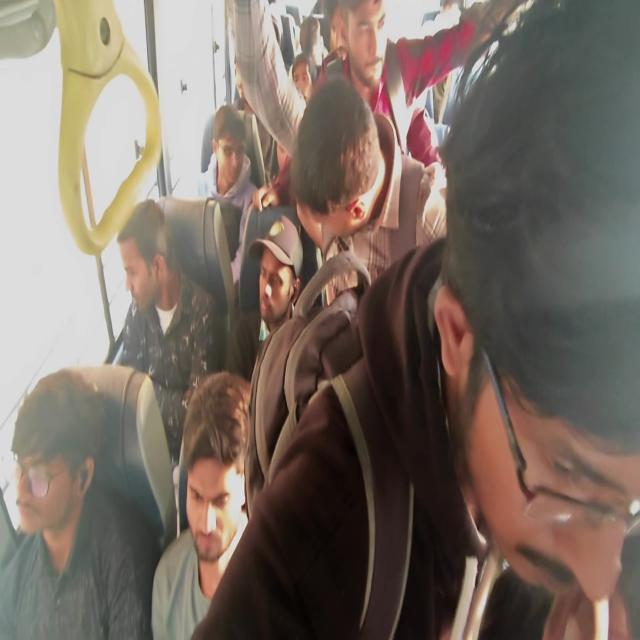person: (436, 101, 640, 568), (184, 394, 244, 559), (15, 384, 86, 516), (118, 206, 172, 308), (260, 219, 300, 333), (346, 8, 389, 98), (215, 112, 252, 208), (321, 5, 351, 74), (290, 53, 320, 115), (234, 47, 262, 103), (276, 132, 298, 192), (301, 21, 320, 61)
